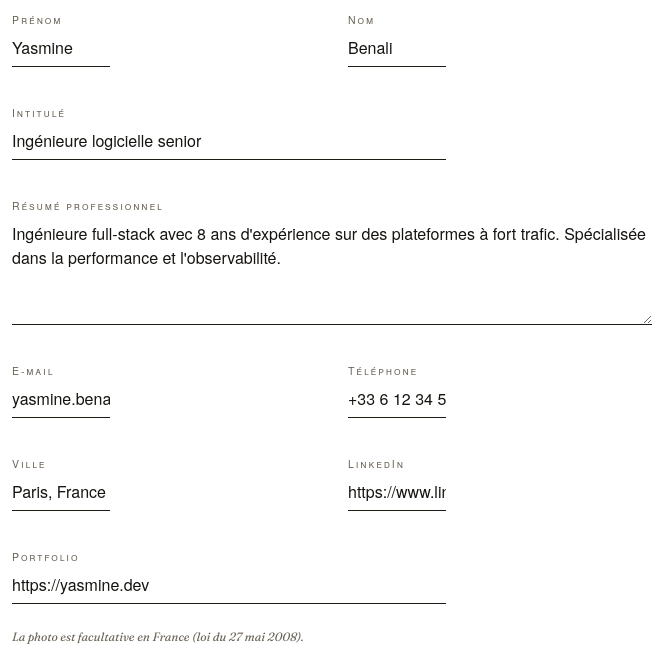
Scenario: PersonalInfoForm › shows a marginalia error when an invalid URL is entered
This screenshot has width=669, height=661.
Replace the text in the field labelled "LinkedIn" with "not-a-url". click: (397, 492)
box: [348,474,446,511]
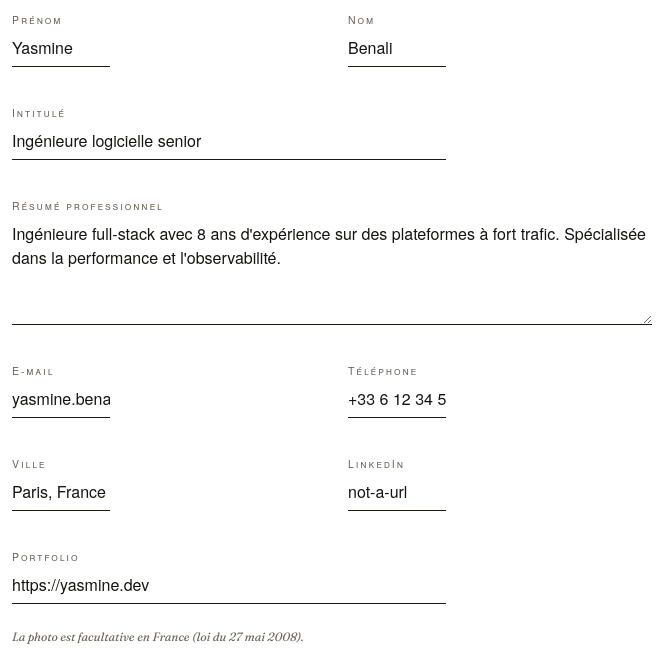
Leave the field labelled "LinkedIn", box [348,474,446,511]
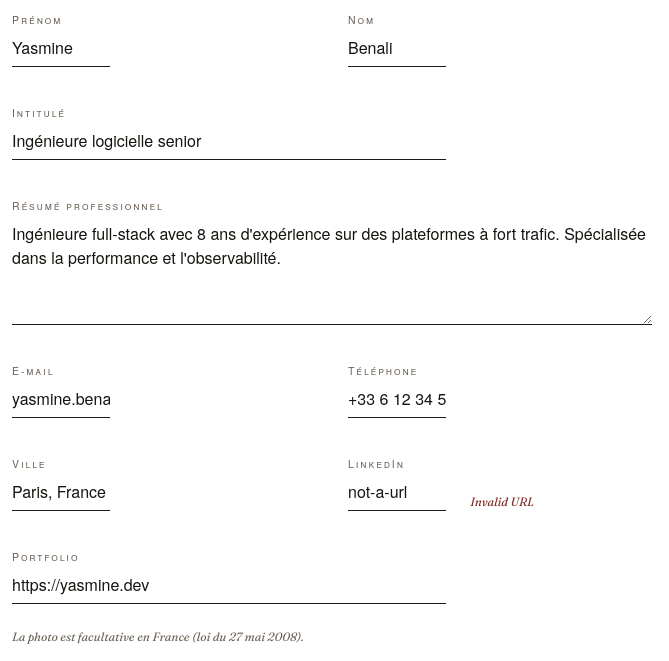
expect the text "Invalid URL" is shown: met, box [470,494,534,509]
